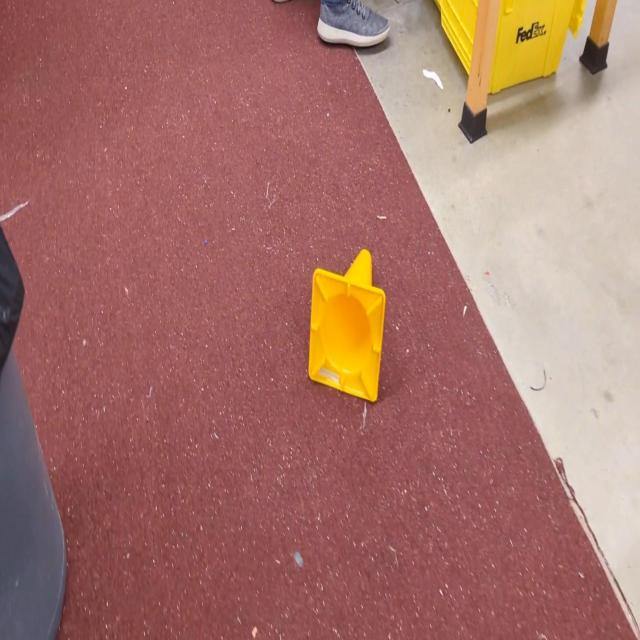frc_cone: (309, 250, 385, 403)
